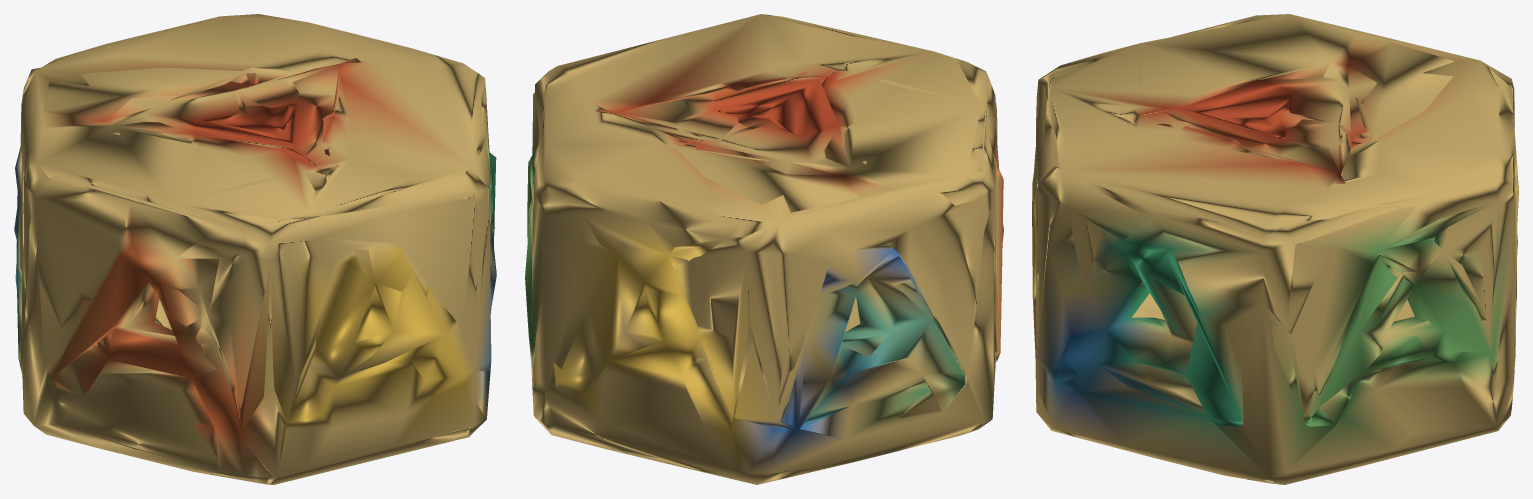
Rendered from gen3d-toy-block-lod0.glb.
3 views of the same model, side by side, from view 1: azimuth 30°, elevation 25°; view 2: azimuth 150°, elevation 25°; view 3: azimuth 270°, elevation 25° (orthographic).
Visible parts, largest first — view 1: part_0; view 2: part_0; view 3: part_0.
Boxes of the visible parts, x1,y1,x2,y2 form: part_0: (14,14,496,484); part_0: (525,14,1003,484); part_0: (1032,14,1518,484).
Bounding box in the file's own units: 1.7 × 0.9719 × 1.58.
